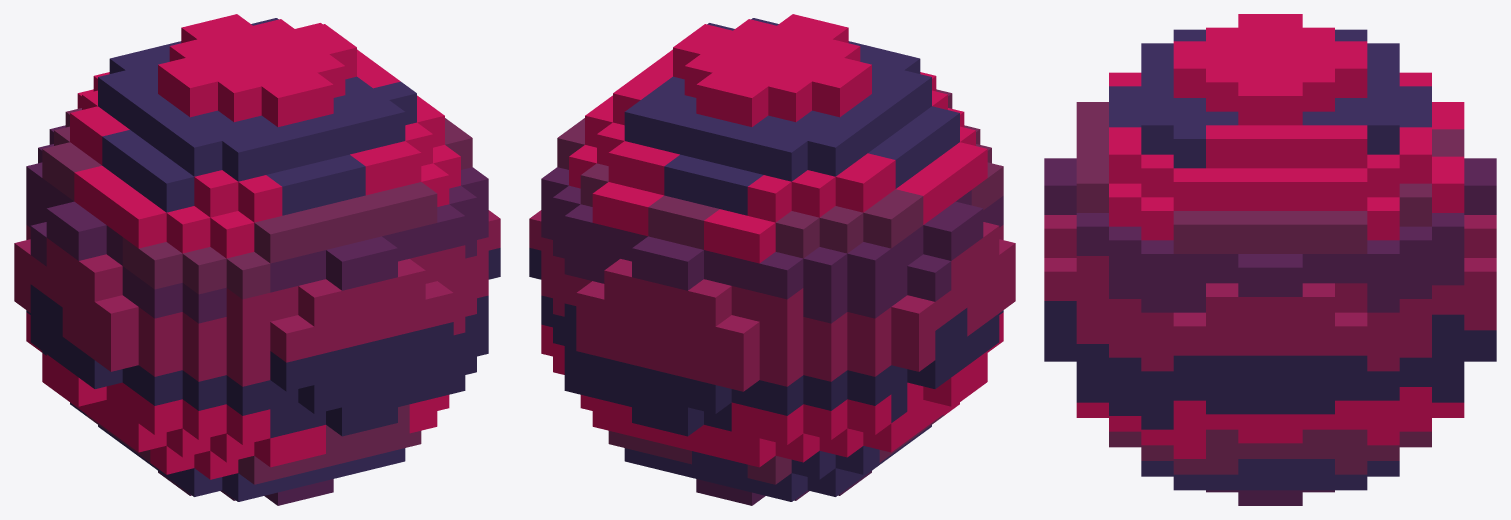
The model's file is planetas-14-rosaslistrado.obj.
3 renders of one model, left to right at view 1: azimuth 30°, elevation 25°; view 2: azimuth 150°, elevation 25°; view 3: azimuth 270°, elevation 25°, orthographic.
Size of the model in its own units: 1.4 by 1.4 by 1.4.
Materials: 1 (1 with a texture image).
